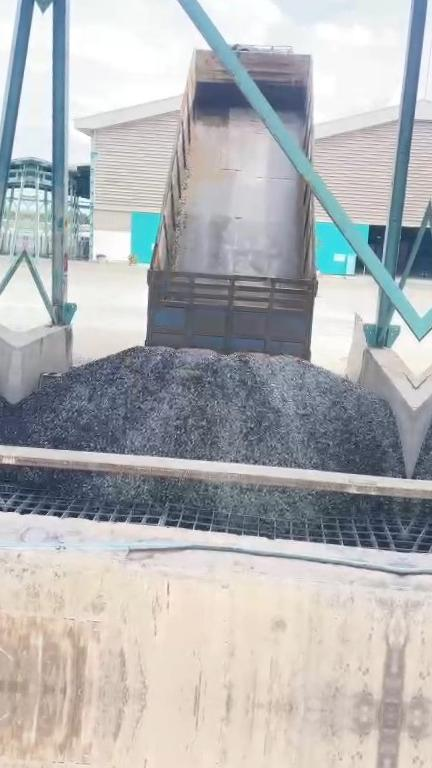gravel: (9, 347, 404, 477), (7, 468, 407, 524)
